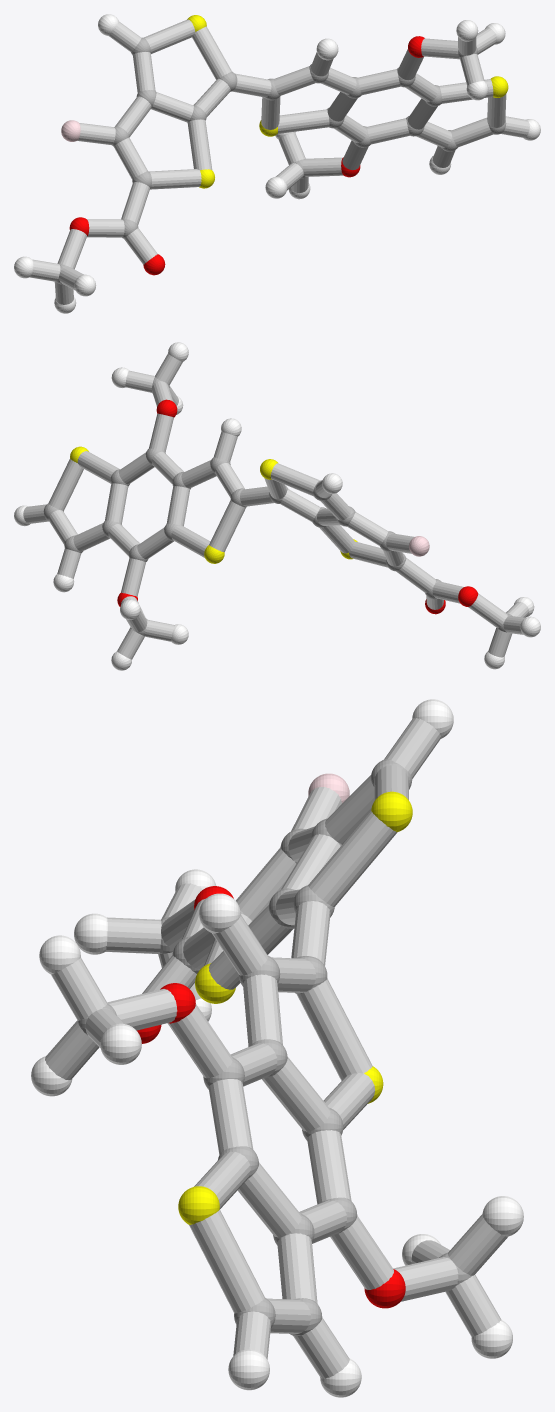
The model's file is Dimethoxy_Benzodithiophene_Phi_15_Theta_70_Methylcarbonyl_3_Fluoro_Thienothiophene.glb.
The picture shows the model from 3 angles, top to bottom: view 1: azimuth 30°, elevation 25°; view 2: azimuth 150°, elevation 25°; view 3: azimuth 270°, elevation 25°; orthographic projection. The views are drawn at different scales.
Parts seen in each view (by area): view 1: grp15205, grp8689, grp1, grp13395, grp7241; view 2: grp15205, grp8689, grp1, grp13395, grp7241; view 3: grp15205, grp8689, grp1, grp7241, grp13395.
Part boxes in pixels (left/top/right/bottom): grp15205: left=29, top=19, right=529, bottom=304; grp8689: left=14, top=14, right=540, bottom=313; grp1: left=56, top=37, right=506, bottom=284; grp13395: left=69, top=36, right=424, bottom=275; grp7241: left=187, top=15, right=508, bottom=188; grp15205: left=23, top=353, right=528, bottom=659; grp8689: left=14, top=342, right=540, bottom=670; grp1: left=43, top=377, right=512, bottom=635; grp13395: left=117, top=399, right=478, bottom=614; grp7241: left=70, top=446, right=357, bottom=563; grp15205: left=45, top=718, right=507, bottom=1378; grp8689: left=31, top=699, right=523, bottom=1397; grp1: left=78, top=759, right=472, bottom=1336; grp7241: left=178, top=791, right=412, bottom=1224; grp13395: left=137, top=886, right=405, bottom=1308.
Bounding box in the file's own units: 17.01 × 7.47 × 7.11.
